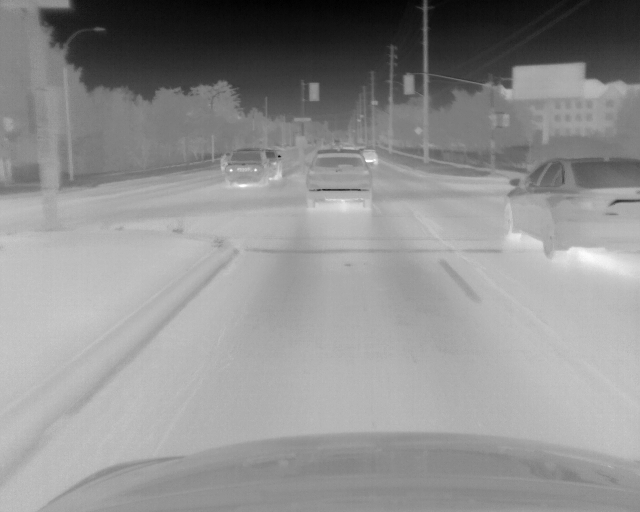car: (504, 157, 640, 259), (303, 149, 372, 210), (226, 150, 267, 186), (267, 148, 284, 183), (363, 150, 378, 165)
